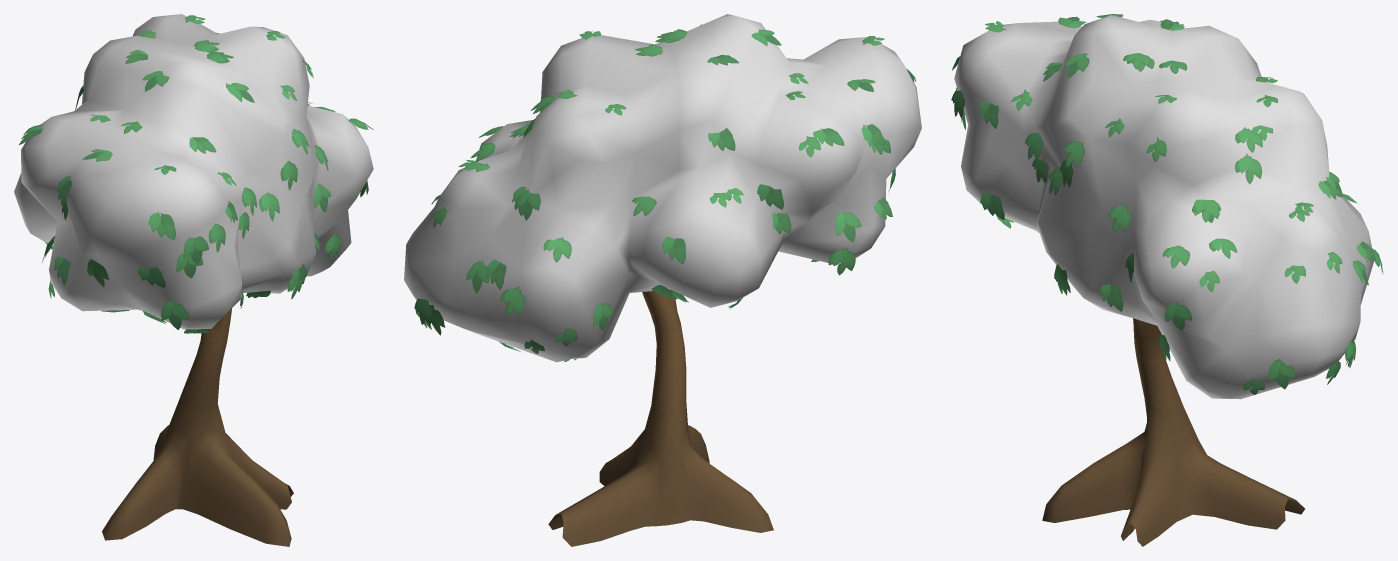
File: Tree3.fbx
3 views of the same model, side by side, from view 1: azimuth 30°, elevation 25°; view 2: azimuth 150°, elevation 25°; view 3: azimuth 270°, elevation 25° (orthographic). The views are drawn at different scales.
Parts seen in each view (by area): view 1: Tree3Top1, Cylinder.006, Tree3Top1|Leaf.004|Dupli|44, Tree3Top1|Leaf.002|Dupli|47, Tree3Top1|Leaf.002|Dupli|45; view 2: Tree3Top1, Cylinder.006; view 3: Tree3Top1, Cylinder.006.
Part boxes in pixels (x1,y1,x2,y2): Tree3Top1: [14, 14, 373, 329]; Cylinder.006: [102, 308, 293, 546]; Tree3Top1|Leaf.004|Dupli|44: [148, 212, 175, 239]; Tree3Top1|Leaf.002|Dupli|47: [161, 299, 188, 329]; Tree3Top1|Leaf.002|Dupli|45: [183, 236, 208, 264]; Tree3Top1: [404, 14, 921, 362]; Cylinder.006: [548, 289, 773, 546]; Tree3Top1: [954, 15, 1374, 399]; Cylinder.006: [1042, 318, 1304, 546].
Bounding box in the file's own units: 456 × 559 × 464.
